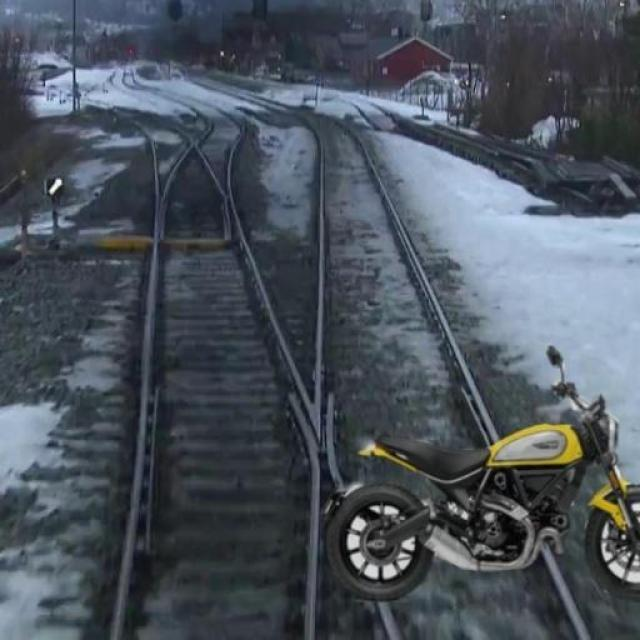vehicle: (310, 345, 640, 604)
